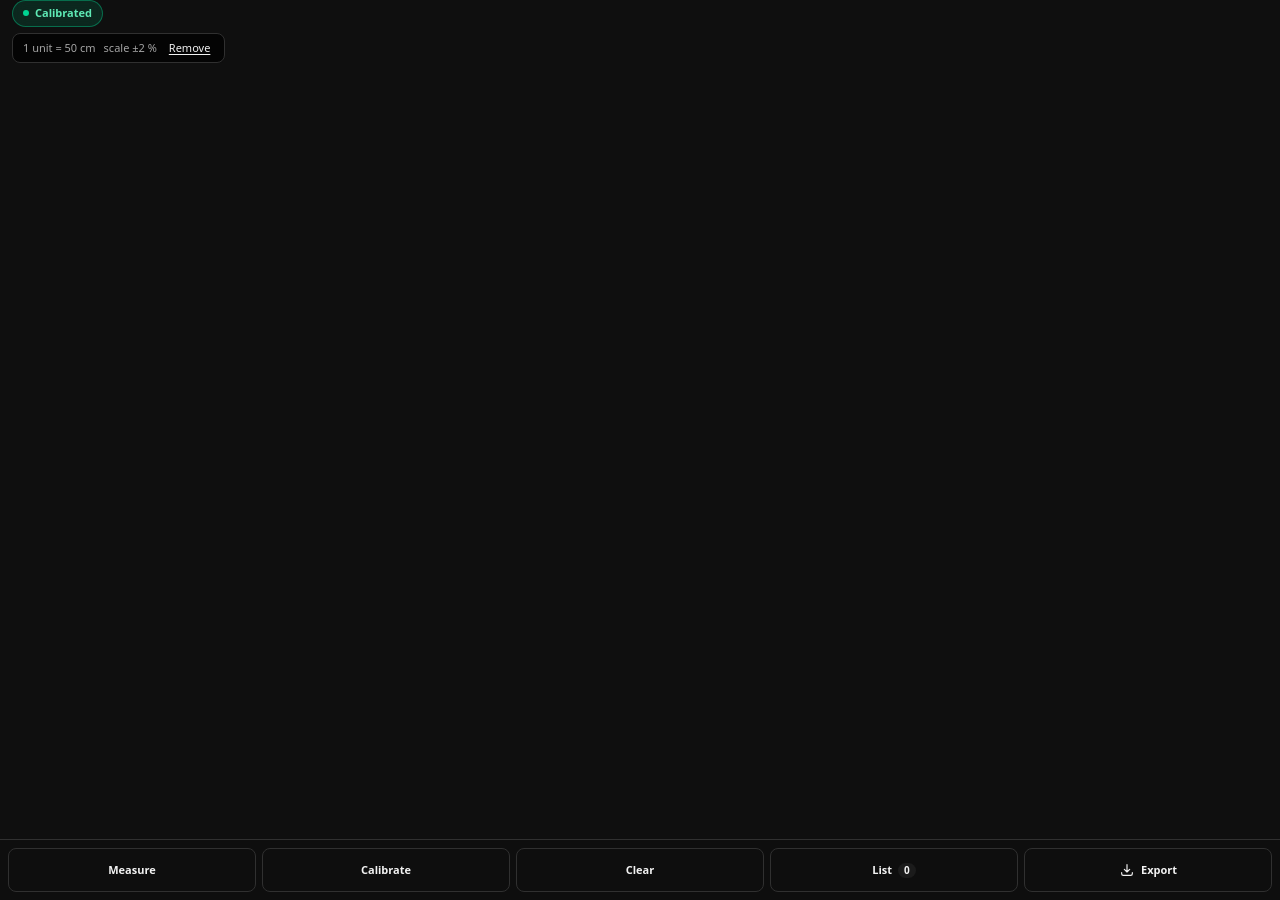
report export › downloads a PDF built from the current measurements
Click the button "Export" at (1148,870), box [1024, 848, 1272, 892]
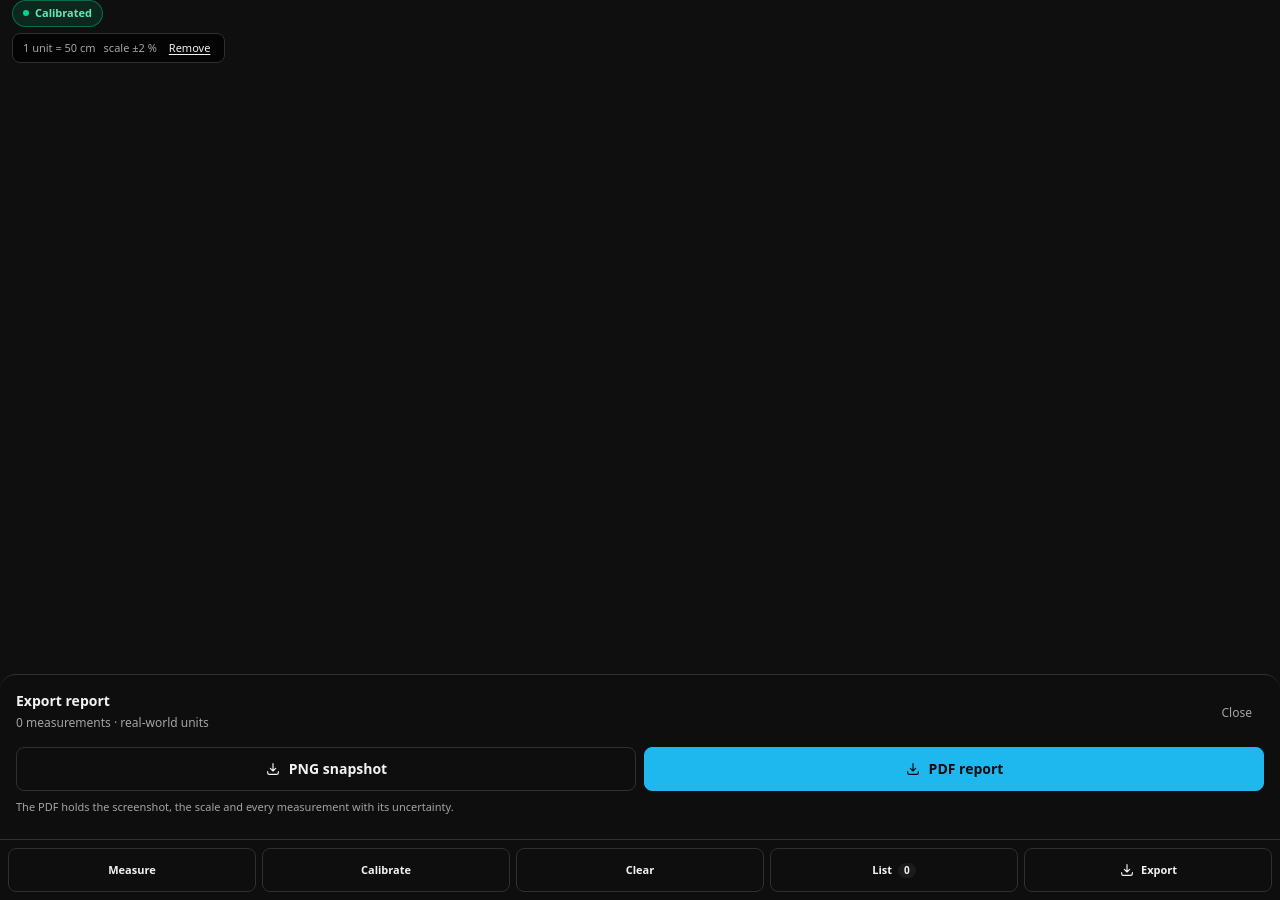
Click the button "PDF report" at (954,768), box [644, 746, 1264, 790]
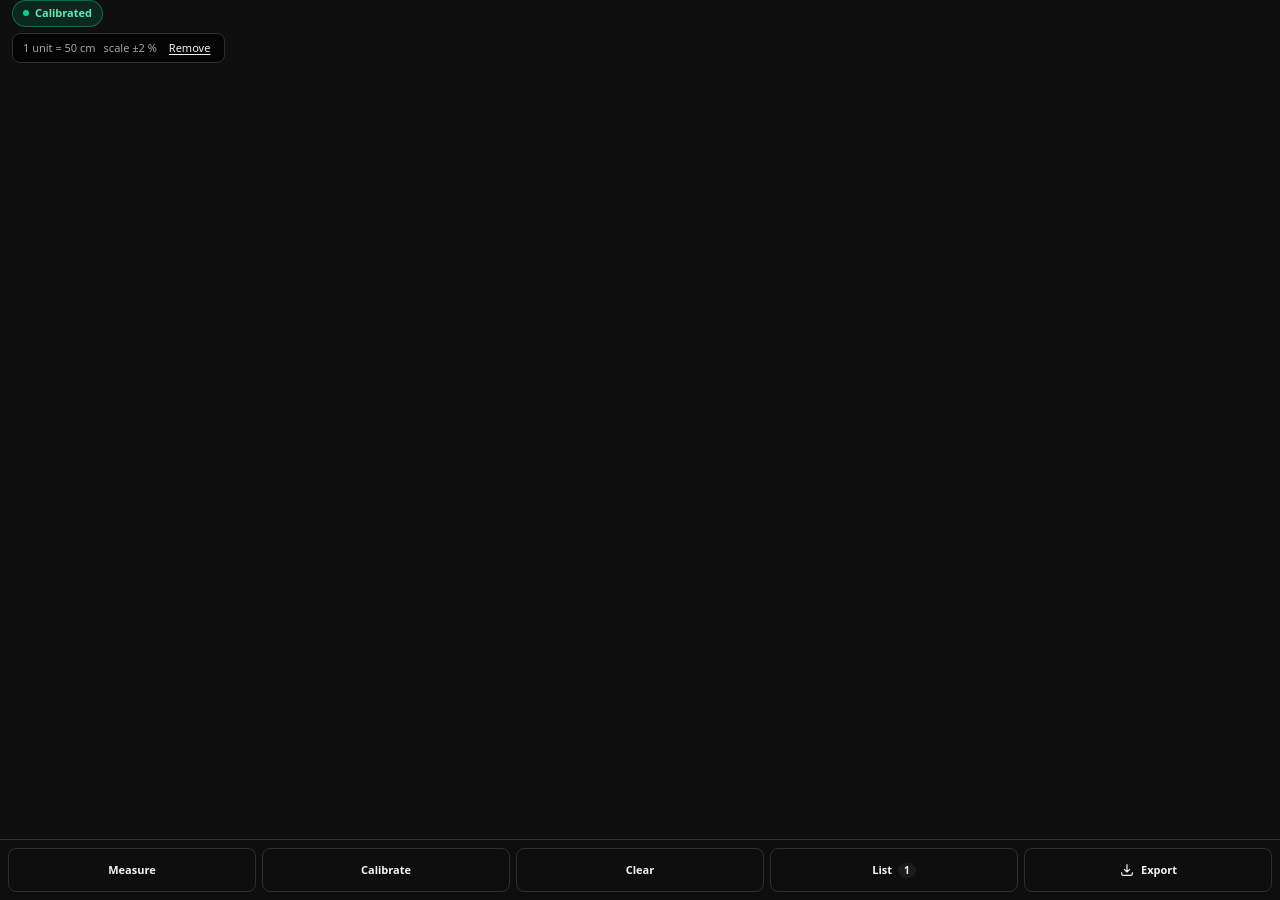
Check: the button "PDF report" is gone
